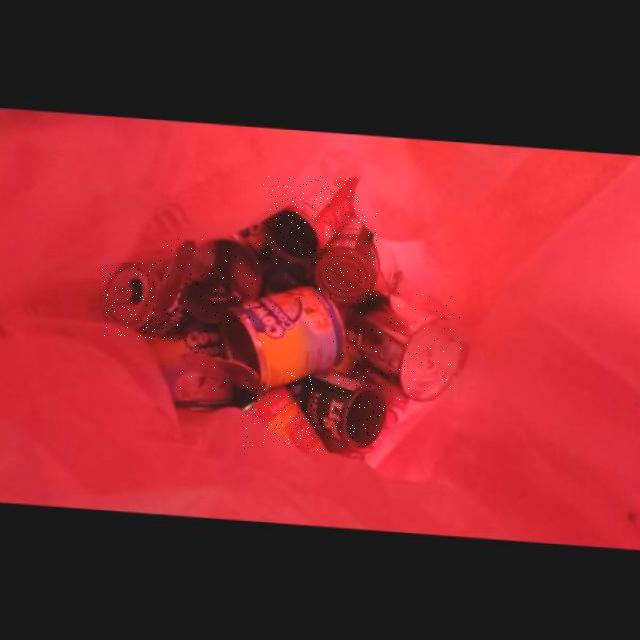metal: (179, 286, 335, 393), (341, 293, 462, 400), (154, 240, 261, 323), (263, 176, 359, 264), (285, 371, 385, 447), (103, 263, 186, 340), (313, 207, 377, 303), (242, 386, 325, 451)
